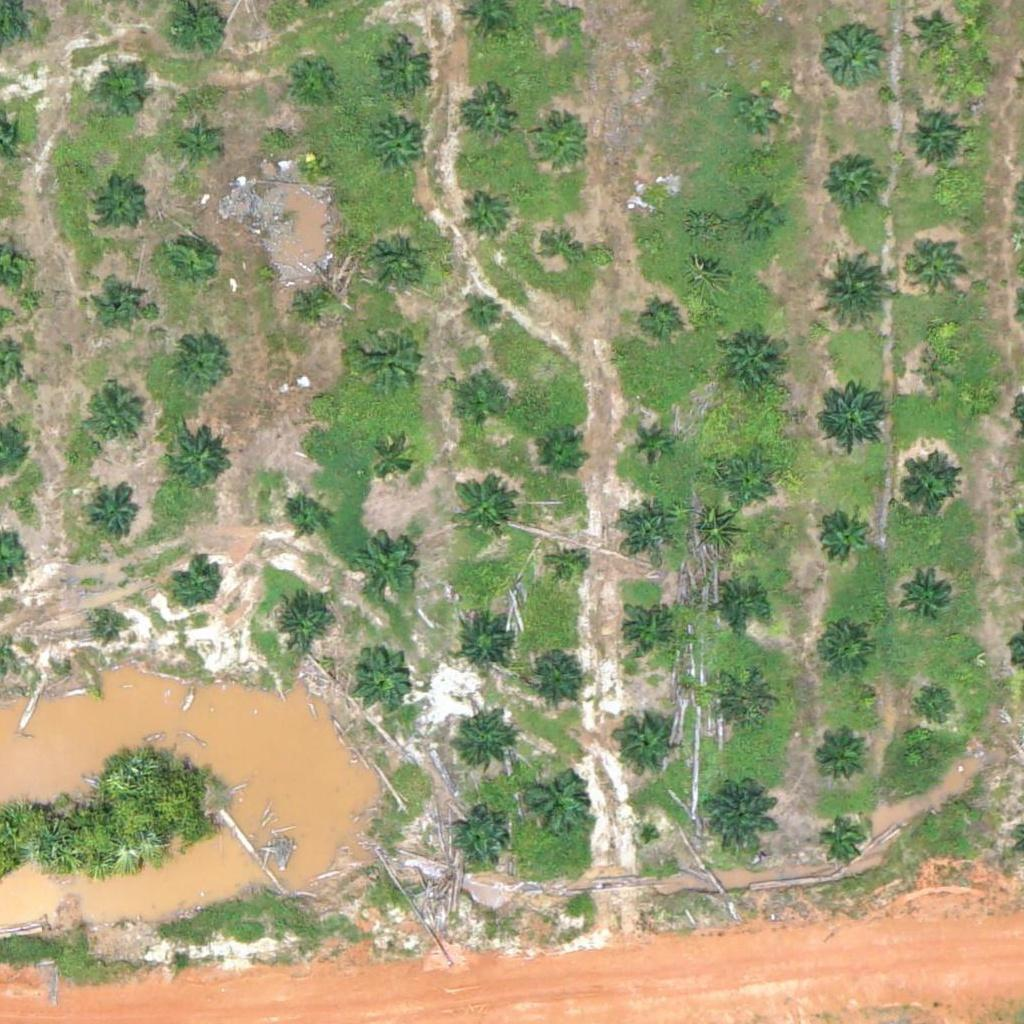Kelapa_Sawit: (354, 315, 429, 391), (701, 777, 776, 853), (515, 764, 590, 840), (813, 258, 888, 333), (815, 372, 890, 447), (614, 494, 677, 557), (351, 535, 414, 598), (819, 22, 882, 85), (373, 40, 436, 103), (895, 456, 958, 519), (900, 563, 963, 626), (448, 712, 511, 775), (347, 644, 410, 707), (615, 713, 678, 776), (447, 809, 510, 872), (450, 476, 512, 539), (167, 424, 229, 487), (718, 332, 780, 395), (820, 149, 882, 212), (85, 387, 147, 450), (365, 232, 427, 295), (164, 334, 226, 397), (903, 106, 965, 169), (905, 235, 967, 298), (714, 672, 776, 735), (270, 589, 332, 652), (370, 119, 432, 181), (455, 614, 517, 676), (522, 642, 584, 704), (720, 459, 770, 510), (815, 510, 865, 561), (819, 623, 869, 674), (912, 681, 962, 732), (715, 581, 765, 631), (89, 491, 139, 541), (170, 558, 220, 608), (96, 275, 146, 325), (99, 69, 149, 119), (95, 179, 145, 229), (285, 52, 335, 102), (466, 87, 516, 137), (536, 119, 586, 169), (449, 382, 499, 432), (162, 235, 212, 285), (814, 734, 864, 784), (619, 604, 669, 654), (820, 815, 870, 865), (535, 429, 585, 479), (366, 438, 416, 488), (281, 495, 331, 545), (289, 278, 339, 328), (909, 15, 959, 65), (461, 191, 511, 241), (177, 125, 215, 163), (551, 550, 589, 588), (464, 293, 502, 331), (541, 4, 579, 42), (639, 187, 677, 225), (545, 229, 583, 267), (744, 203, 781, 241), (919, 352, 956, 390), (630, 425, 667, 463), (644, 301, 682, 338), (739, 91, 776, 128), (95, 611, 120, 636), (298, 153, 323, 178), (305, 388, 330, 413)
